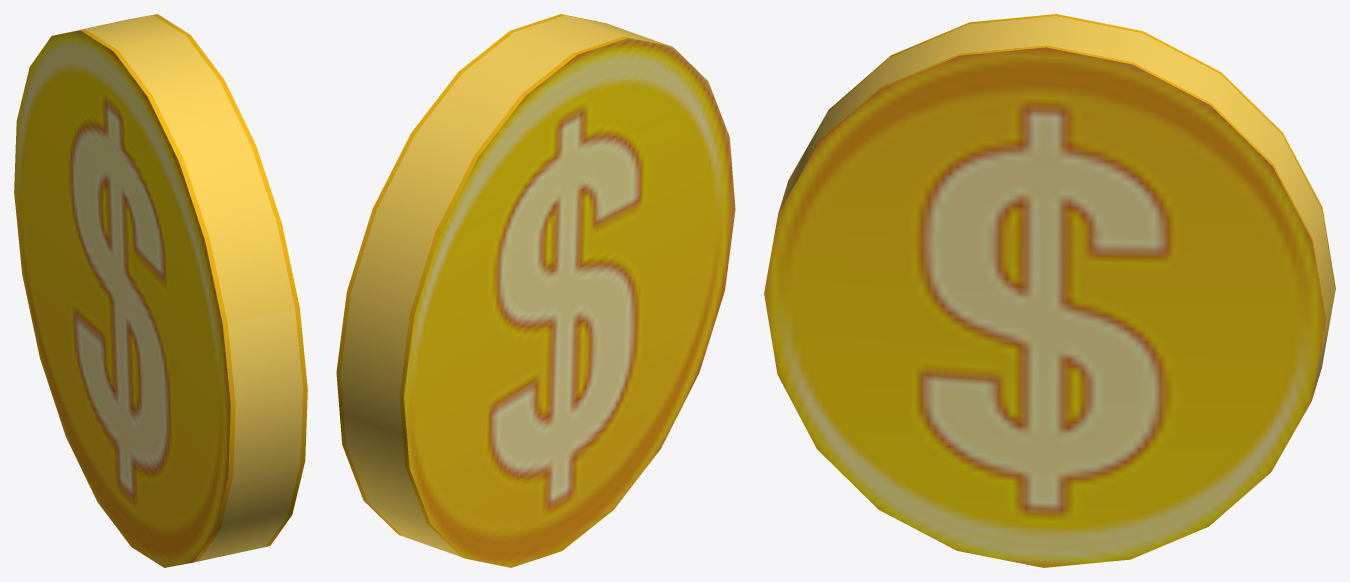
The model's file is coin.fbx.
The picture shows the model from 3 angles, left to right: view 1: azimuth 30°, elevation 25°; view 2: azimuth 150°, elevation 25°; view 3: azimuth 270°, elevation 25°; orthographic projection. The views are drawn at different scales.
Visible parts, largest first — view 1: pCylinder1; view 2: pCylinder1; view 3: pCylinder1.
Part boxes in pixels (box(x1,y1,x2,y2)): pCylinder1: box(14, 14, 307, 567); pCylinder1: box(336, 14, 735, 567); pCylinder1: box(764, 14, 1335, 567).
Bounding box in the file's own units: 1.4 × 5.12 × 5.15.
1 material, 1 textured.
